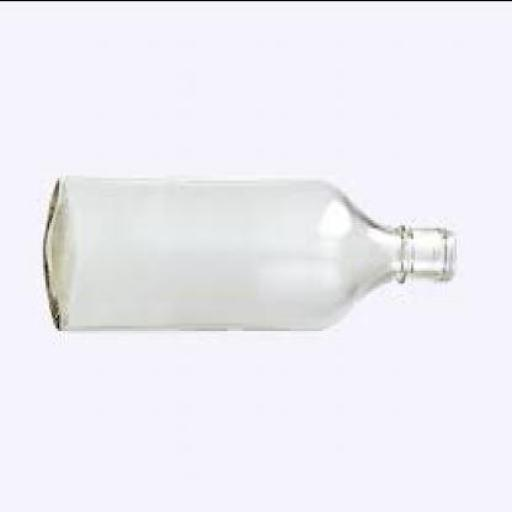glass: (45, 180, 461, 330)
